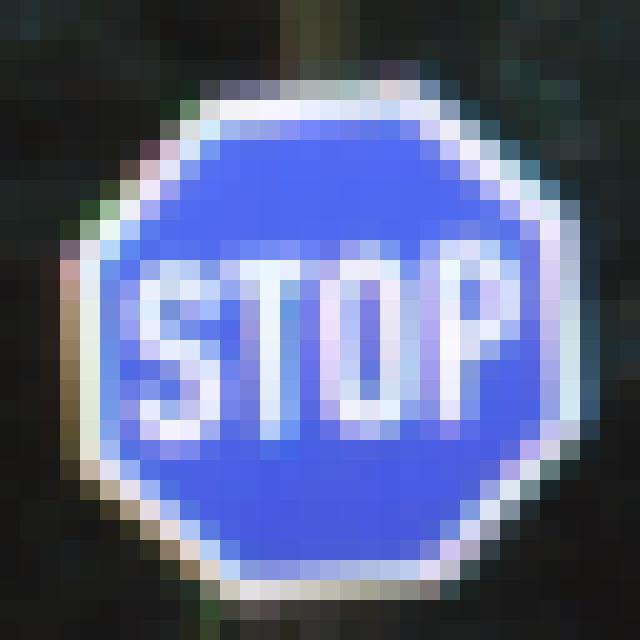STOP: (86, 106, 559, 583)
